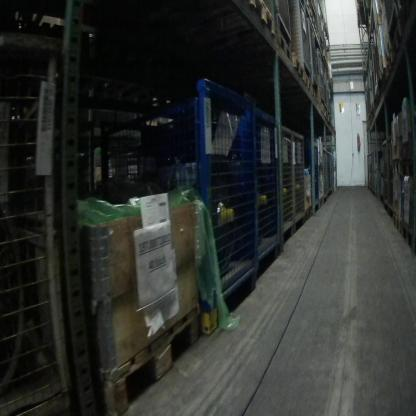pallet: (100, 309, 202, 413), (238, 4, 282, 39), (392, 18, 413, 64), (274, 32, 294, 70), (386, 43, 405, 79), (303, 69, 317, 103), (289, 53, 303, 86), (375, 57, 391, 82), (400, 223, 414, 247), (386, 38, 396, 67), (374, 15, 384, 41), (401, 139, 413, 160), (312, 91, 323, 112), (391, 213, 401, 232), (393, 146, 403, 164), (321, 102, 328, 116)
stillage: (99, 63, 254, 321), (3, 16, 94, 412), (250, 92, 281, 282), (277, 117, 295, 244), (290, 123, 306, 236), (292, 1, 313, 81), (305, 137, 318, 214), (308, 23, 320, 88), (276, 3, 294, 42), (314, 0, 325, 44), (373, 146, 383, 193), (388, 134, 394, 210), (316, 53, 325, 102), (370, 47, 379, 96), (326, 150, 334, 201), (326, 77, 335, 120), (365, 76, 372, 121), (322, 146, 327, 207), (263, 1, 277, 21), (384, 135, 388, 204), (326, 143, 331, 198), (367, 67, 373, 110), (370, 150, 376, 189), (366, 152, 372, 190), (324, 65, 327, 108)
